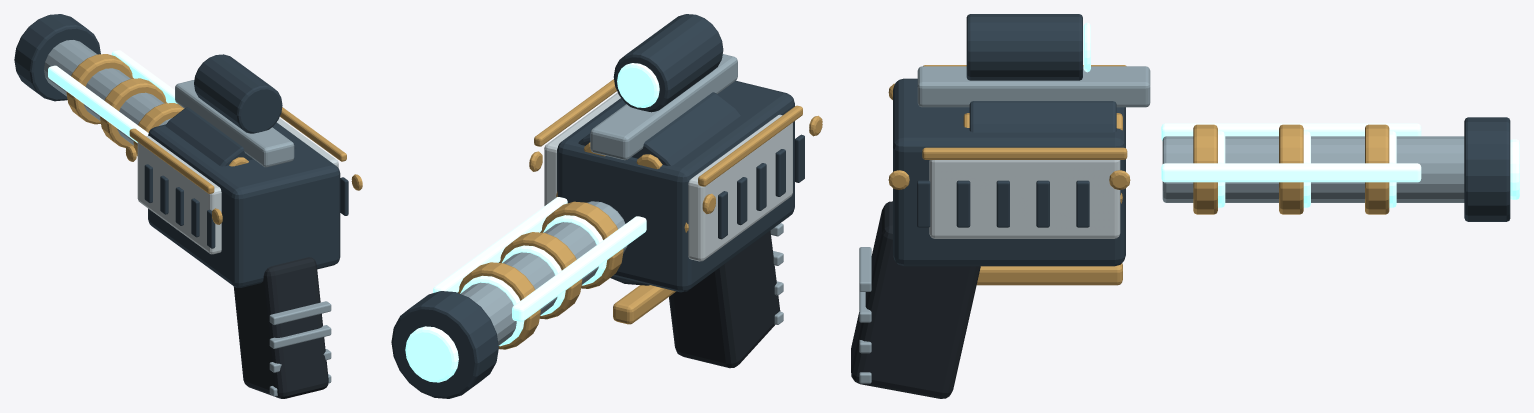
Rendered from magnum.glb.
3 renders of one model, left to right at view 1: azimuth 30°, elevation 25°; view 2: azimuth 150°, elevation 25°; view 3: azimuth 270°, elevation 25°, orthographic. The views are drawn at different scales.
Visible parts, largest first — view 1: ZW4_magnum; view 2: ZW4_magnum; view 3: ZW4_magnum.
Part boxes in pixels (<box>): ZW4_magnum: <box>14,14,362,398</box>; ZW4_magnum: <box>391,14,822,398</box>; ZW4_magnum: <box>851,14,1519,398</box>.
Size of the model in its own units: 0.35 by 0.6654 by 1.09.
